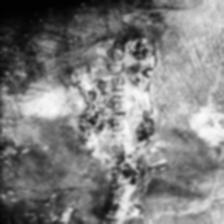Toxin: (66, 41, 156, 224)
